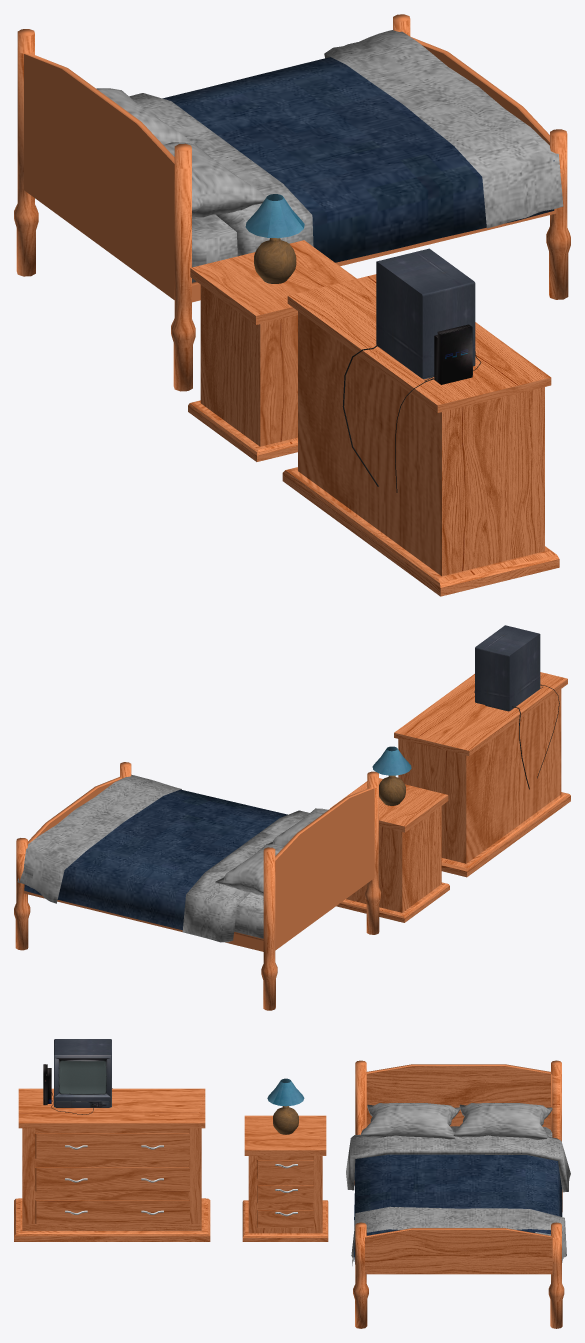
File: farmBed.fbx
The picture shows the model from 3 angles, top to bottom: view 1: azimuth 30°, elevation 25°; view 2: azimuth 150°, elevation 25°; view 3: azimuth 270°, elevation 25°; orthographic projection. The views are drawn at different scales.
Parts seen in each view (by area): view 1: farmBed, drawers, dresser, TV, lamp, PS2; view 2: farmBed, drawers, dresser, TV, lamp; view 3: farmBed, drawers, dresser, TV, lamp, PS2.
Part boxes in pixels (x1,y1,x2,y2): farmBed: [14, 14, 570, 391]; drawers: [282, 274, 559, 596]; dresser: [188, 240, 356, 461]; TV: [342, 248, 475, 486]; lamp: [245, 194, 304, 283]; PS2: [395, 324, 481, 492]; farmBed: [14, 762, 381, 1010]; drawers: [394, 672, 570, 877]; dresser: [330, 778, 449, 922]; TV: [475, 625, 540, 789]; lamp: [372, 746, 411, 805]; farmBed: [346, 1060, 570, 1328]; drawers: [14, 1088, 210, 1241]; dresser: [242, 1115, 328, 1241]; TV: [54, 1039, 112, 1107]; lamp: [267, 1078, 304, 1134]; PS2: [43, 1064, 93, 1114].
Size of the model in its own units: 1473 by 921 by 2718.
